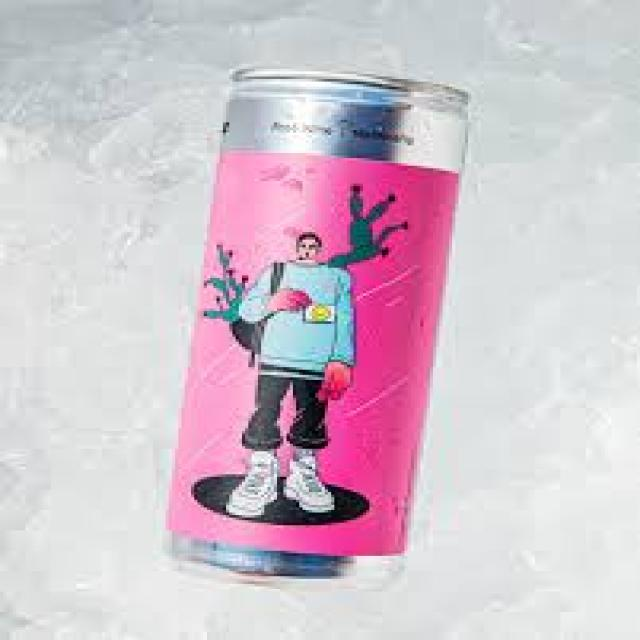Cans: (162, 59, 490, 594)
